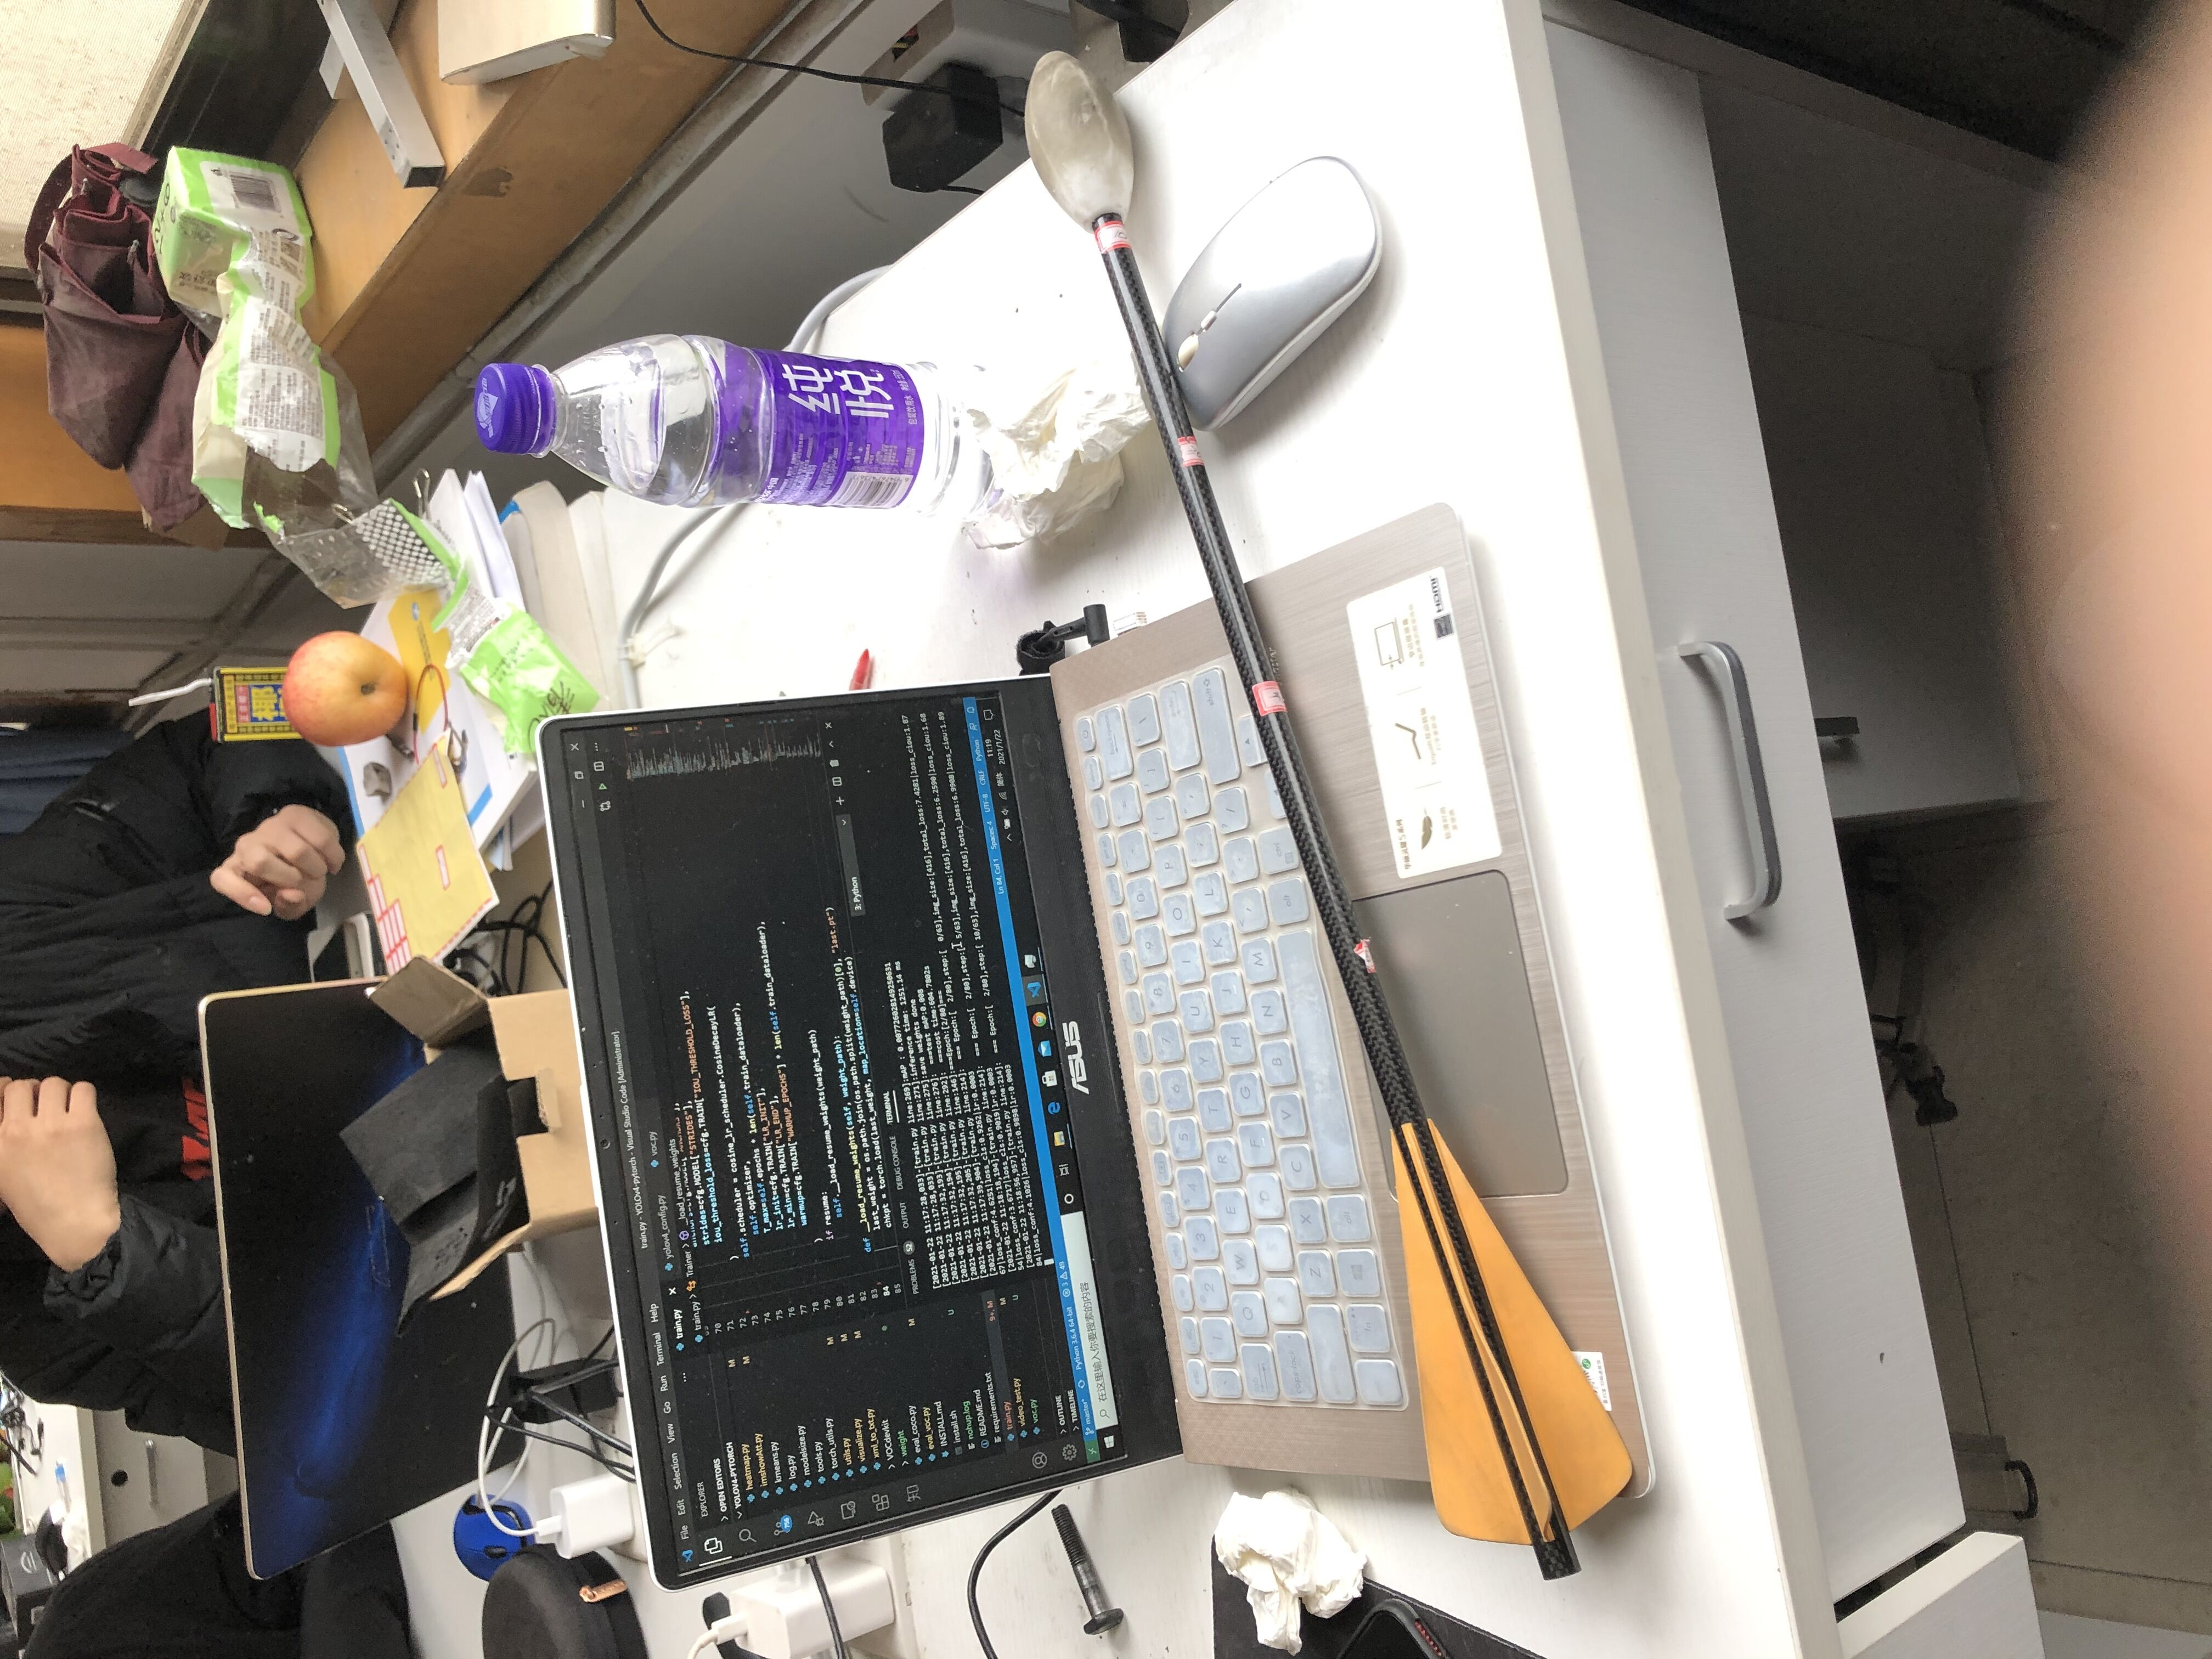arrow: (1021, 51, 1637, 1584)
arrowFront: (1021, 49, 1141, 234)
